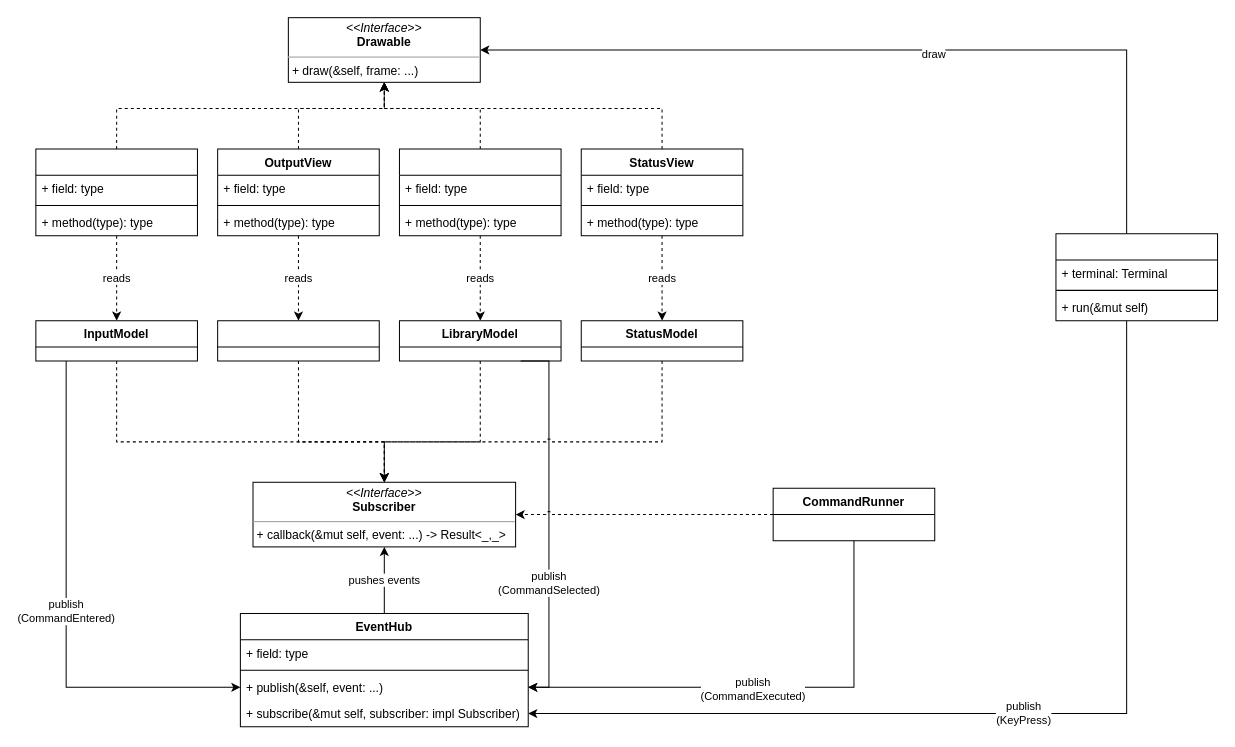
Image size: 1235x747. Some labels were removed from this diagram. The shapes that lost their labels are listed below. From the top down, each one's box as (x1, y1, x2, y2) in pixels, then its label:
(35, 148, 197, 236): InputView
(398, 148, 561, 236): LibraryView
(1055, 233, 1218, 321): App
(217, 320, 379, 361): OutputModel
